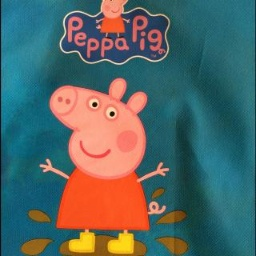Peppa: (38, 76, 172, 256)
